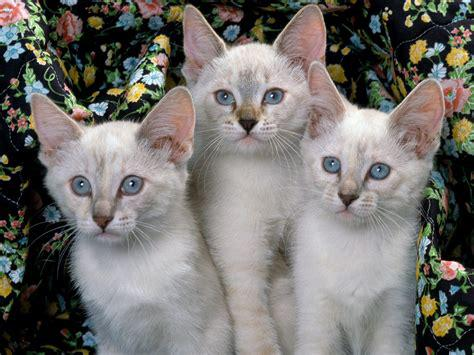cat: (30, 85, 233, 355), (183, 4, 326, 355), (290, 62, 445, 355)
